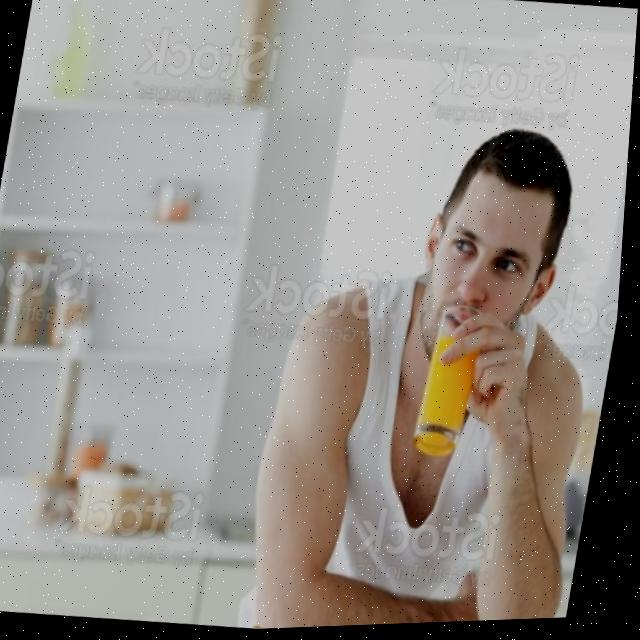eating-person: (172, 83, 635, 634)
